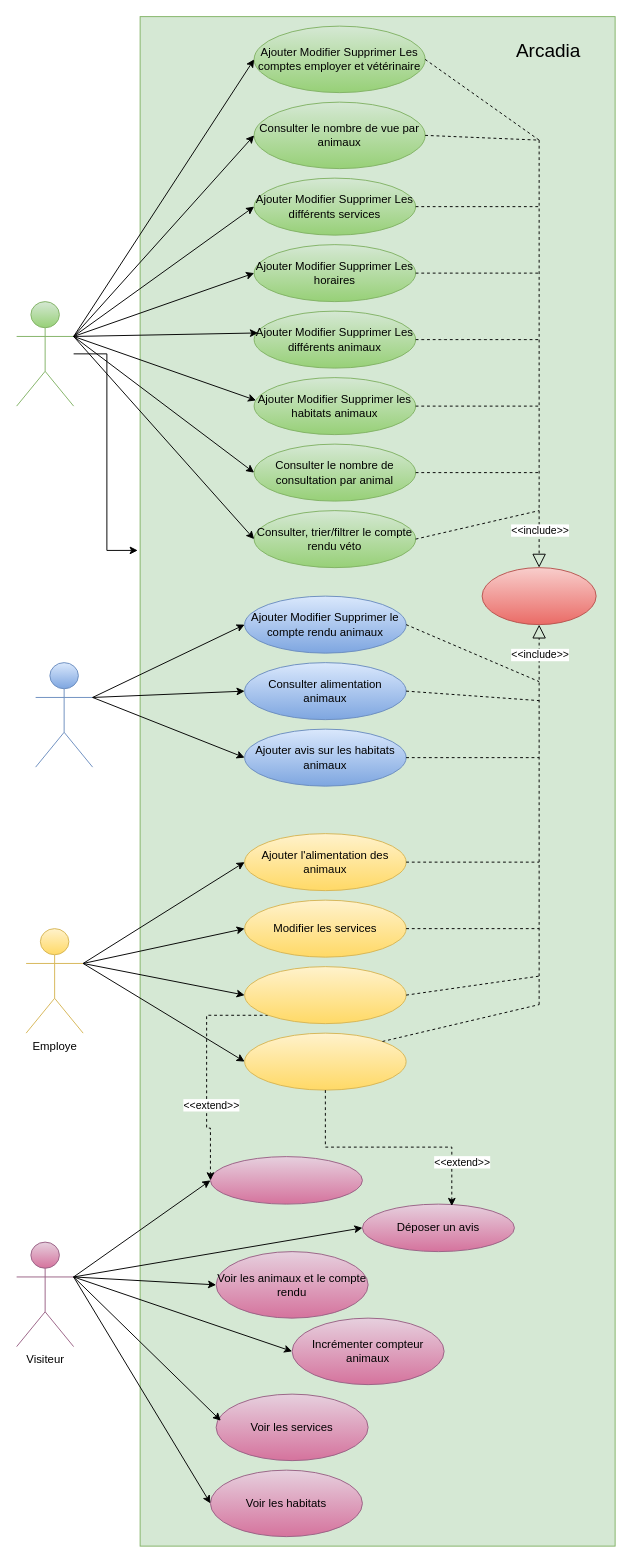
The diagram is 632 pixels wide and 1563 high, and some of its shapes have lost their labels. Here are the shapes that lost their labels. From the top down, the box of each, then its label:
(16, 301, 74, 406): Admin
(481, 567, 596, 625): Se connecter
(35, 662, 93, 767): Véto
(244, 966, 406, 1024): Répondre à une demande de contact
(244, 1032, 406, 1090): Valider ou pas avis déposé par visiteur
(209, 1156, 362, 1204): Déposer une demande de contact
